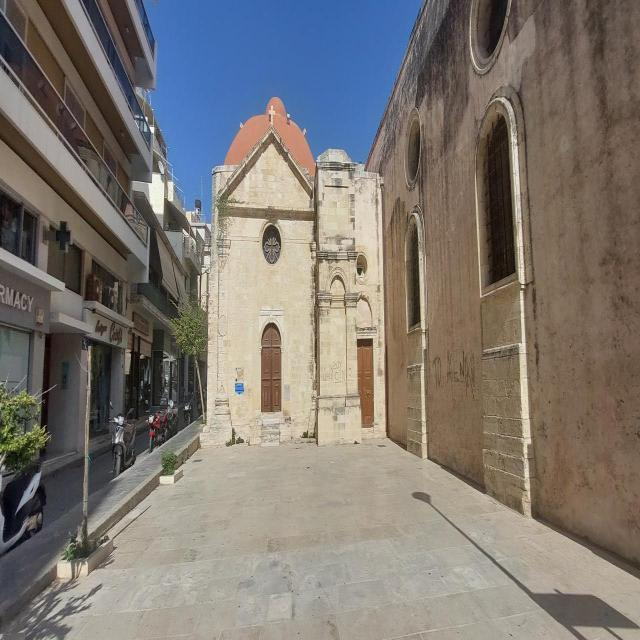Agia Aikaterini: (207, 3, 640, 569)
